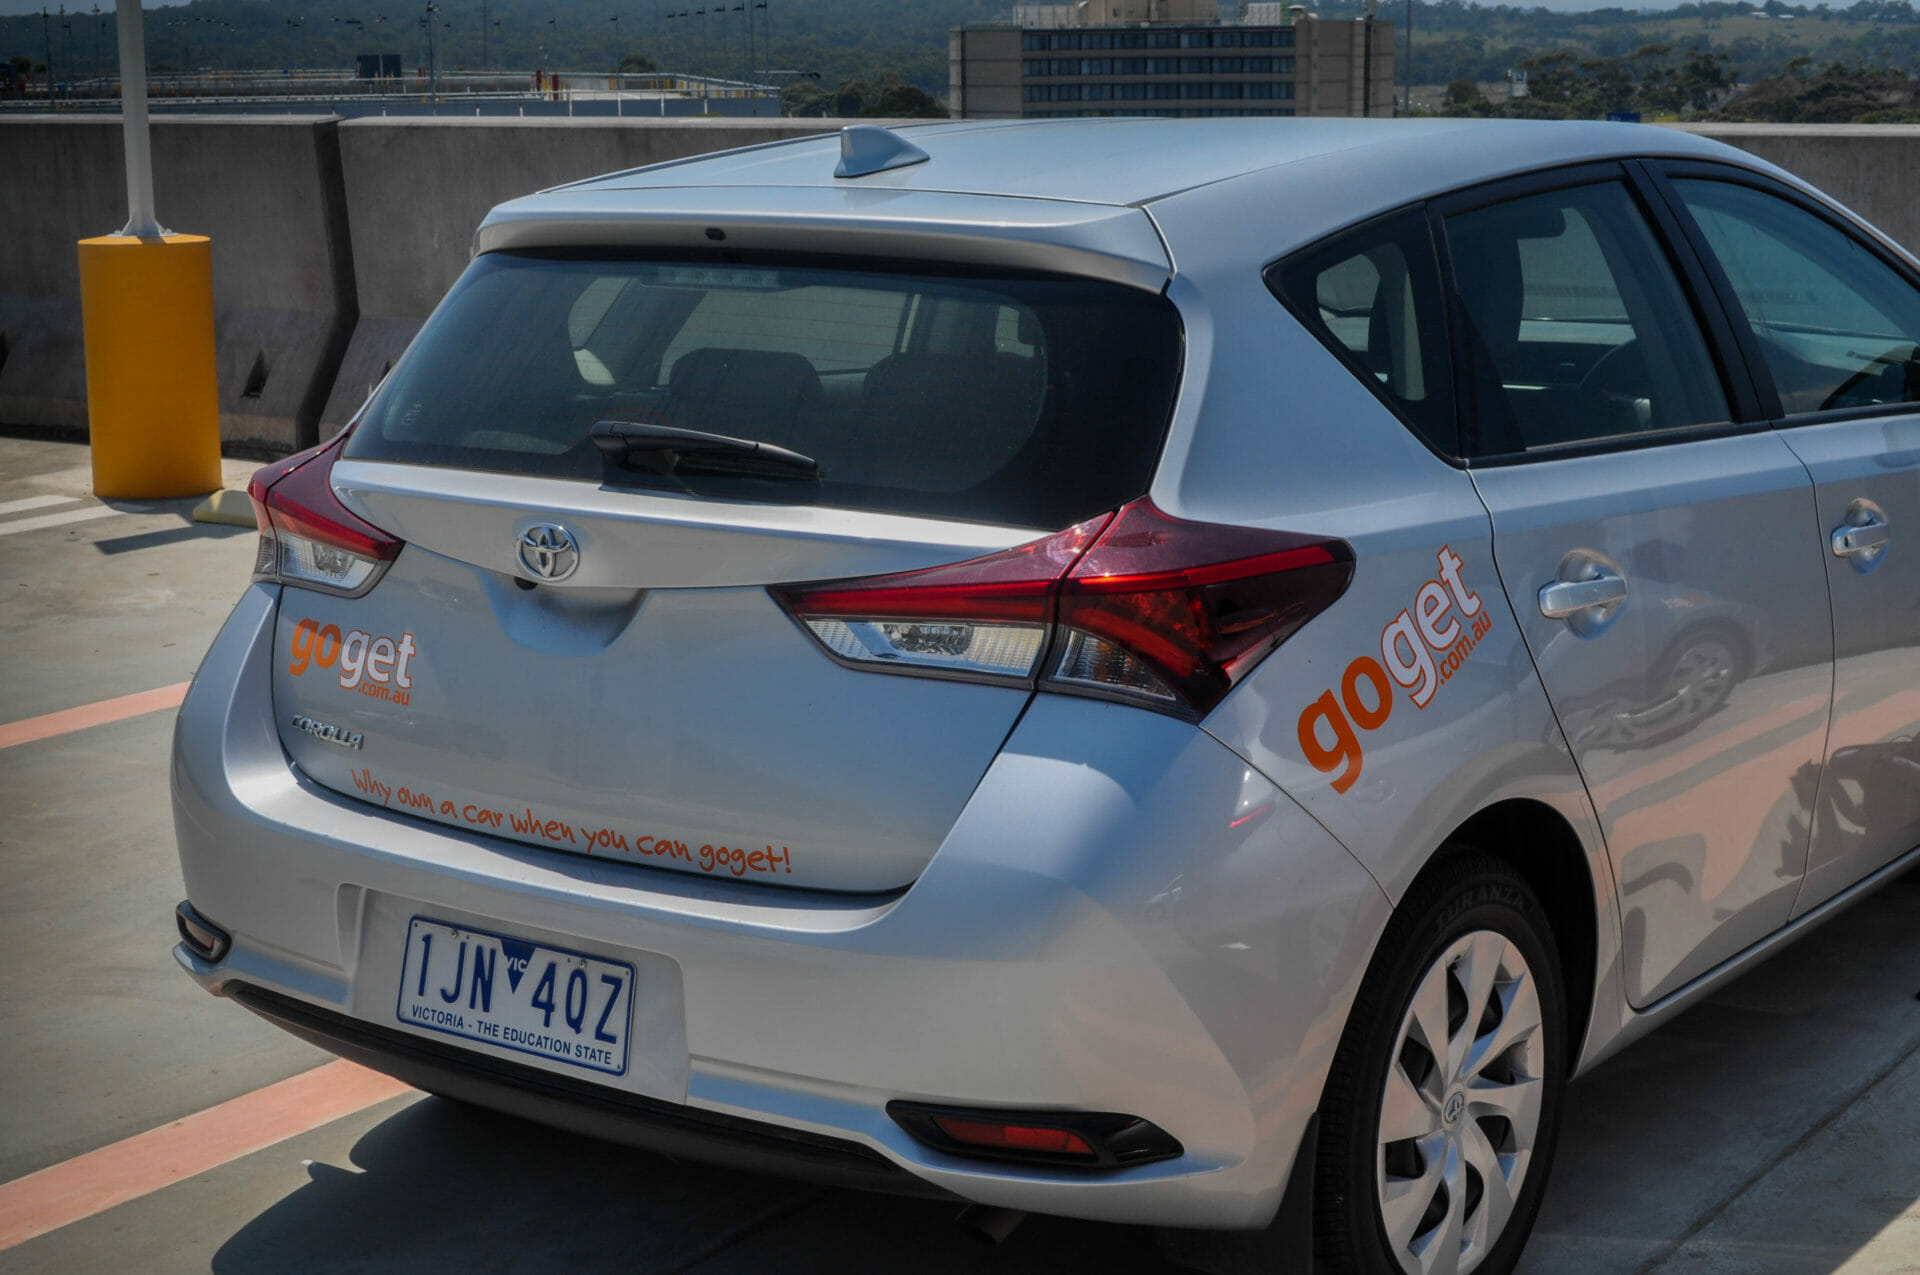license plate: (389, 908, 641, 1068)
